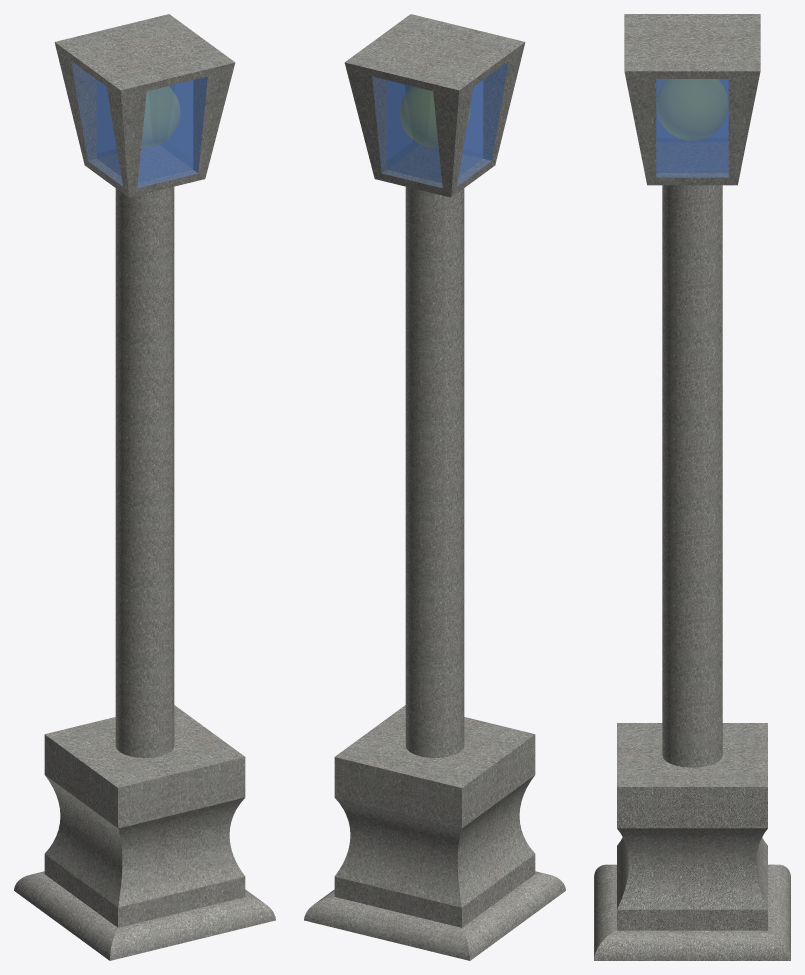
File: outdoor-lamp.fbx
3 views of the same model, side by side, from view 1: azimuth 30°, elevation 25°; view 2: azimuth 150°, elevation 25°; view 3: azimuth 270°, elevation 25° (orthographic). The views are drawn at different scales.
Parts seen in each view (by area): view 1: lamp1, Component_20_4, Component_20_3, light1, Component_20_2, Component_20_1; view 2: lamp1, Component_20_1, Component_20_3, light1, Component_20_2, Component_20_4; view 3: lamp1, Component_20_2, light1, Component_20_3.
Boxes of the visible parts, x1=… form: lamp1: x1=14, y1=14, x2=275, y2=960; Component_20_4: x1=137, y1=76, x2=207, y2=187; Component_20_3: x1=71, y1=61, x2=122, y2=186; light1: x1=110, y1=86, x2=179, y2=147; Component_20_2: x1=163, y1=81, x2=192, y2=160; Component_20_1: x1=97, y1=81, x2=115, y2=153; lamp1: x1=304, y1=14, x2=565, y2=960; Component_20_1: x1=372, y1=76, x2=442, y2=187; Component_20_3: x1=457, y1=61, x2=508, y2=186; light1: x1=400, y1=86, x2=469, y2=146; Component_20_2: x1=387, y1=81, x2=419, y2=163; Component_20_4: x1=463, y1=81, x2=482, y2=154; lamp1: x1=594, y1=14, x2=790, y2=960; Component_20_2: x1=656, y1=79, x2=728, y2=177; light1: x1=657, y1=79, x2=727, y2=140; Component_20_3: x1=657, y1=79, x2=727, y2=141.
Bounding box in the file's own units: 0.6517 × 3.2 × 0.6517.
